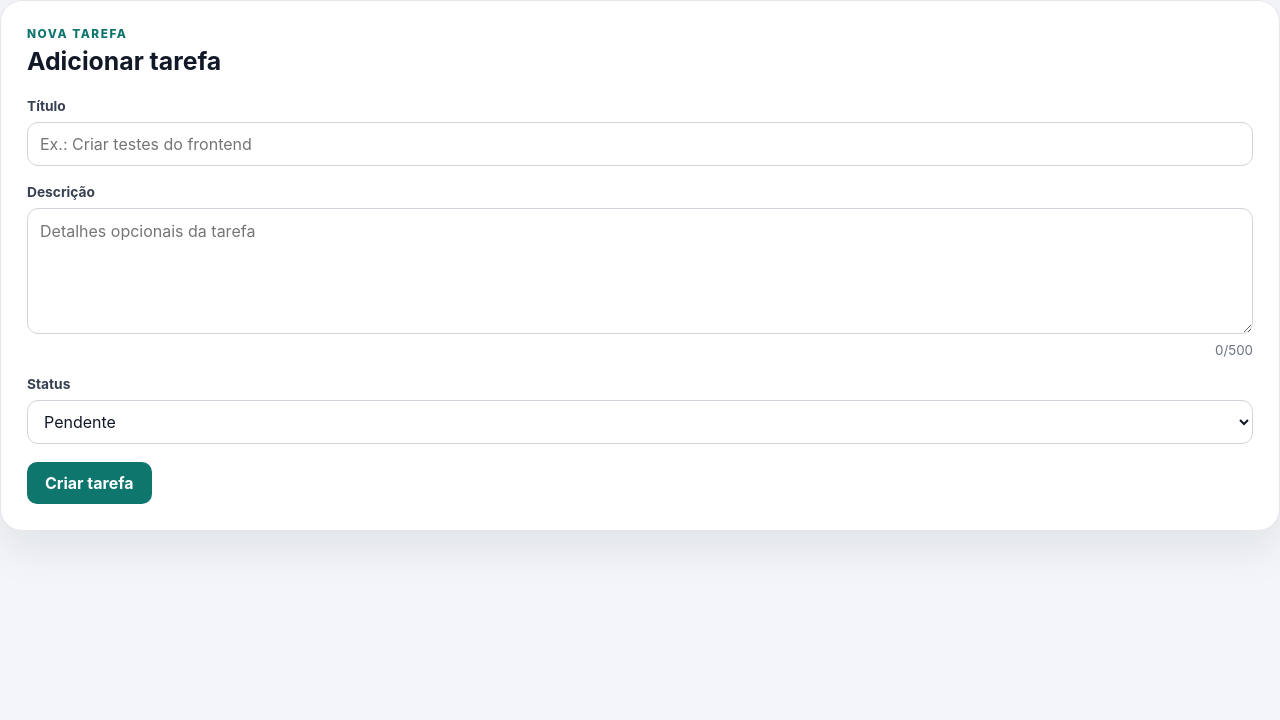
Test case: TaskForm › shows a validation error for a short title
The image size is (1280, 720).
Type "AB" into the field labelled "Título". click: (640, 144)
box: [27,122,1253,166]
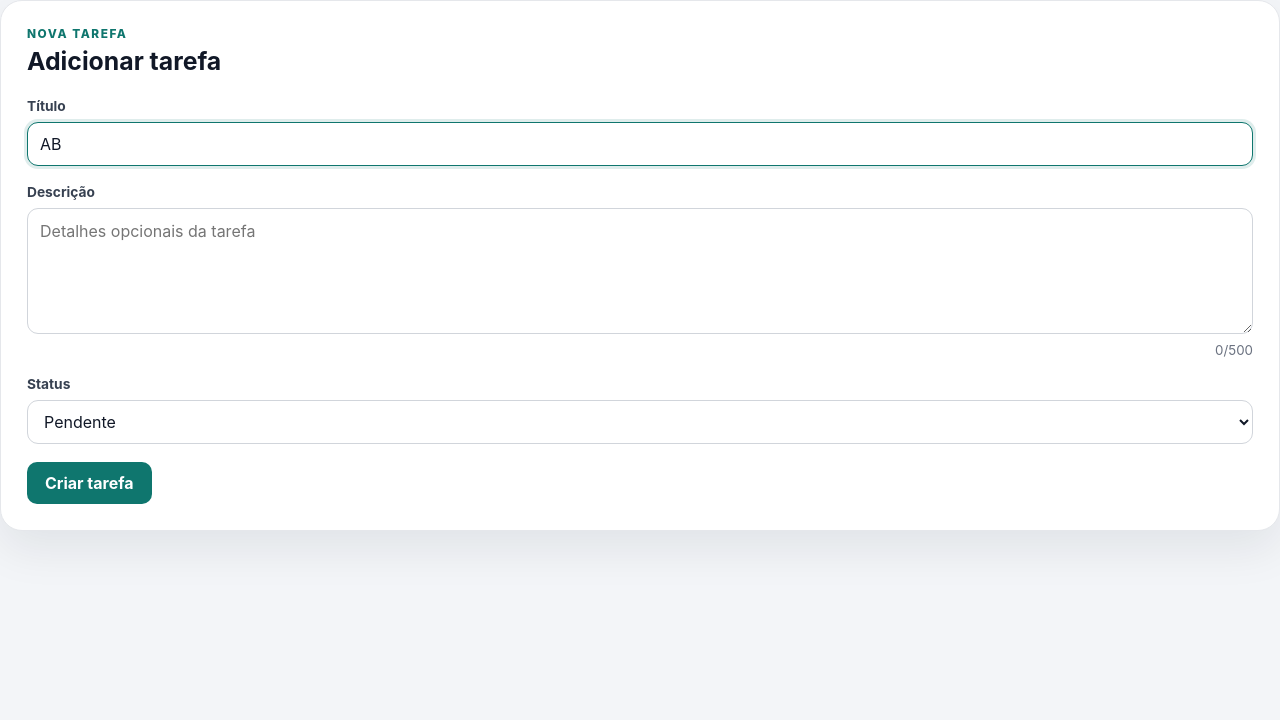
Click the button "Criar tarefa". click: (89, 483)
box: [27,462,152,504]
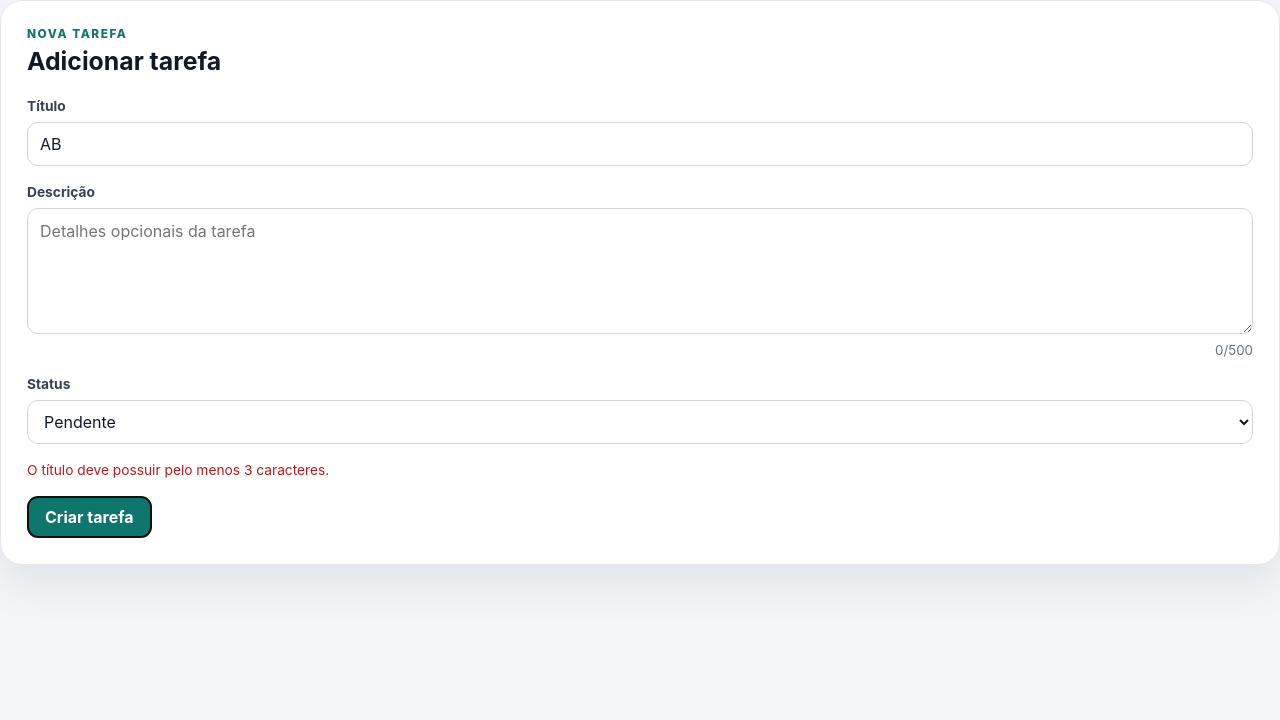
Result: the message reads "O título deve possuir pelo menos 3 caracteres." at [27,462,329,478]
